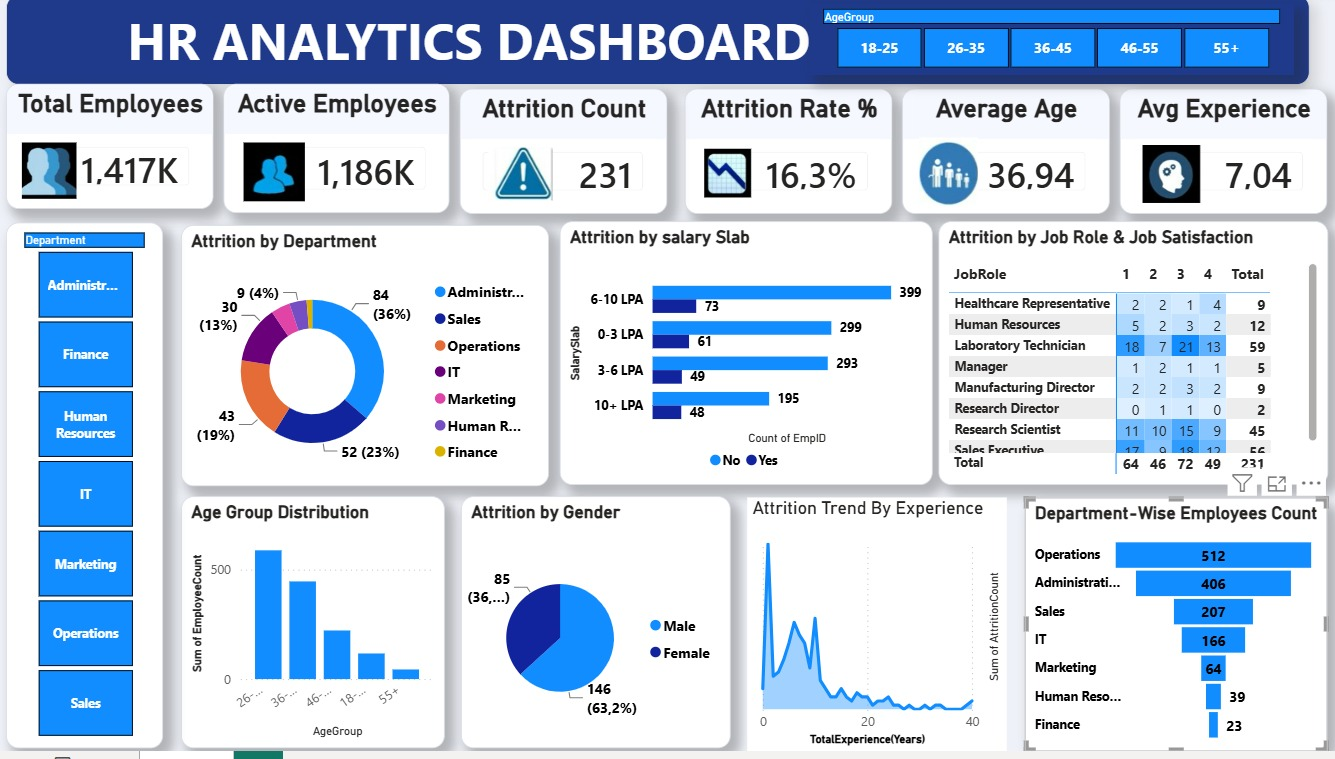

The page's visual inventory and layout, read from the dashboard file:
{"tool":"powerbi","page":{"name":"Page 1","canvas":[1280,720],"ordinal":0},"visuals":[{"type":"textbox","box":[9.7,0,1241.6,85.6],"z":0},{"type":"cardVisual","title":"Total Employees","fields":{"Data":["CountNonNull(HR_Analytics-4 (1).EmpID)"]},"box":[9.6,85.1,197.6,119.4],"z":1000},{"type":"cardVisual","title":"Attrition Rate %","fields":{"Data":["HR_Analytics-4 (1).Attrition Rate %"]},"box":[655.9,89.2,197.6,119.4],"z":2000},{"type":"cardVisual","title":"Average Age","fields":{"Data":["Avg(HR_Analytics-4 (1).Age)"]},"box":[863.1,89.2,197.6,119.4],"z":3000},{"type":"cardVisual","title":"Avg Experience","fields":{"Data":["Avg(HR_Analytics-4 (1).YearsatCompany)"]},"box":[1070.3,89.2,197.6,119.4],"z":4000},{"type":"cardVisual","title":"Active Employees","fields":{"Data":["CountNonNull(HR_Analytics-4 (1).EmployeeCount)"]},"box":[216.8,85.1,215.4,123.5],"z":5000},{"type":"cardVisual","title":"Attrition Count","fields":{"Data":["Sum(HR_Analytics-4 (1).AttritionCount)"]},"box":[441.9,89.2,197.6,119.4],"z":6000},{"type":"image","box":[19.2,140,63.1,53.5],"z":7000},{"type":"image","box":[458.3,145.5,82.3,50.8],"z":8000},{"type":"image","box":[229.2,140,72.7,56.3],"z":9000},{"type":"image","box":[863.1,135.8,87.8,64.5],"z":10000},{"type":"image","box":[639.5,146.8,115.3,46.7],"z":11000},{"type":"image","box":[1070.3,142.7,98.8,54.9],"z":12000},{"type":"donutChart","title":"Attrition by Department","fields":{"Category":["HR_Analytics-4 (1).Department"],"Y":["Sum(HR_Analytics-4 (1).AttritionCount)"]},"box":[175.6,219.6,350,249],"z":13000},{"type":"clusteredBarChart","title":"Attrition by salary Slab","fields":{"Category":["HR_Analytics-4 (1).SalarySlab"],"Y":["CountNonNull(HR_Analytics-4 (1).EmpID)"],"Series":["HR_Analytics-4 (1).Attrition"]},"box":[536.5,215.4,355,251],"z":14000},{"type":"pivotTable","title":"Attrition by Job Role & Job Satisfaction ","fields":{"Rows":["HR_Analytics-4 (1).JobRole"],"Values":["Sum(HR_Analytics-4 (1).AttritionCount)"],"Columns":["HR_Analytics-4 (1).JobSatisfaction"]},"box":[897.4,215.4,371,251],"z":15000},{"type":"columnChart","title":"Age Group Distribution","fields":{"Category":["HR_Analytics-4 (1).AgeGroup"],"Y":["Sum(HR_Analytics-4 (1).EmployeeCount)"]},"box":[175.6,477.5,251.1,240.1],"z":16000},{"type":"pieChart","title":"Attrition by Gender","fields":{"Category":["HR_Analytics-4 (1).Gender"],"Y":["Sum(HR_Analytics-4 (1).AttritionCount)"]},"box":[443.2,477.5,256.6,240.1],"z":17000},{"type":"areaChart","title":"Attrition Trend By Experience","fields":{"Category":["HR_Analytics-4 (1).TotalExperience(Years)"],"Y2":["Sum(HR_Analytics-4 (1).AttritionCount)"]},"box":[714.9,478.9,247,241.5],"z":18000},{"type":"funnel","title":"Department-Wise Employees Count","fields":{"Category":["HR_Analytics-4 (1).Department"],"Y":["CountNonNull(HR_Analytics-4 (1).EmpID)"]},"box":[979.8,478.9,288.2,241.5],"z":19000},{"type":"slicer","fields":{"Values":["HR_Analytics-4 (1).Department"]},"box":[9.6,216.8,149.6,500.9],"z":20000},{"type":"slicer","fields":{"Values":["HR_Analytics-4 (1).AgeGroup"]},"box":[774.8,8.3,461.3,67.7],"z":21000}]}

Visuals, with their boxes in screenshot pixels (x1, y1, x2, y2), scaled from the page's 1280x720 canvas onto the 1335x759 screenshot:
textbox: 10/0/1305/90
"Total Employees" cardVisual: 10/90/216/216
"Attrition Rate %" cardVisual: 684/94/890/220
"Average Age" cardVisual: 900/94/1106/220
"Avg Experience" cardVisual: 1116/94/1322/220
"Active Employees" cardVisual: 226/90/451/220
"Attrition Count" cardVisual: 461/94/667/220
image: 20/148/86/204
image: 478/153/564/207
image: 239/148/315/207
image: 900/143/992/211
image: 667/155/787/204
image: 1116/150/1219/208
"Attrition by Department" donutChart: 183/231/548/494
"Attrition by salary Slab" clusteredBarChart: 560/227/930/492
"Attrition by Job Role & Job Satisfaction " pivotTable: 936/227/1323/492
"Age Group Distribution" columnChart: 183/503/445/756
"Attrition by Gender" pieChart: 462/503/730/756
"Attrition Trend By Experience" areaChart: 746/505/1003/758
"Department-Wise Employees Count" funnel: 1022/505/1322/758
slicer - HR_Analytics-4 (1).Department: 10/229/166/757
slicer - HR_Analytics-4 (1).AgeGroup: 808/9/1289/80
